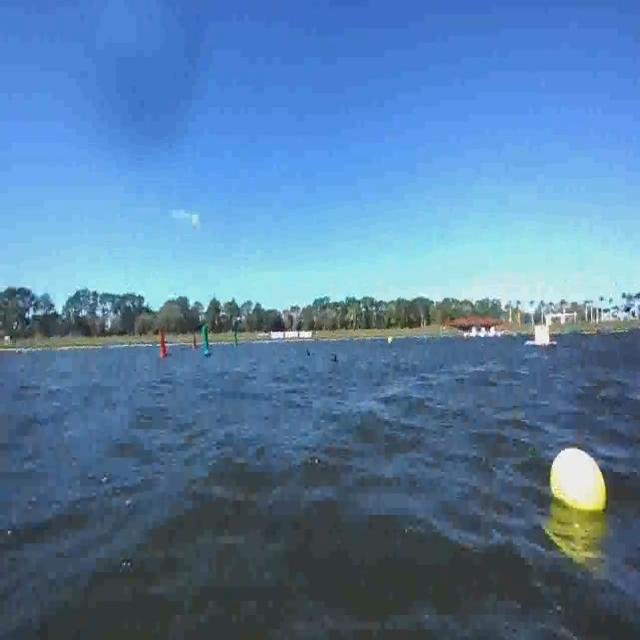black-buoy: (330, 350, 338, 362), (306, 346, 310, 358)
green-column-buoy: (202, 325, 213, 357), (234, 328, 241, 349)
red-column-buoy: (158, 331, 168, 359), (191, 335, 197, 352)
yellow-buoy: (548, 444, 605, 512), (386, 337, 392, 348)
